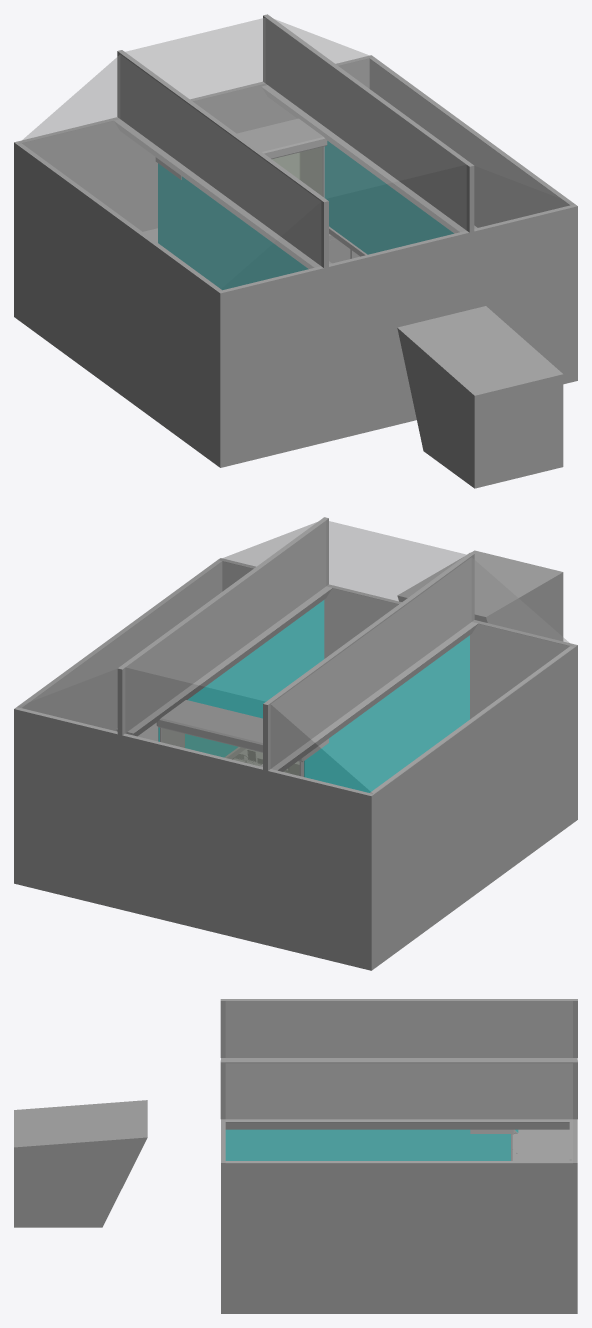
Rendered from lab.fbx.
3 renders of one model, top to bottom at view 1: azimuth 30°, elevation 25°; view 2: azimuth 150°, elevation 25°; view 3: azimuth 270°, elevation 25°, orthographic. The views are drawn at different scales.
Parts seen in each view (by area): view 1: glass_roof, pCube2, pCube3, pCube57, pCube64, pCube65, pCube4, glass1, pCube5, pasted__pCube46, pCube59, pCube62 (+3 smaller); view 2: glass_roof, pCube4, pCube3, pCube65, pCube64, glass1, pCube2, pCube5, pasted__pCube46, pCube57, pCube60, ground (+3 smaller); view 3: glass_roof, pCube5, pCube64, pCube65, pCube57, pasted__pCube46, pCube62, second_floor, ground, pCube59, pCube4, pCube2.
Part boxes in pixels (x1,y1,x2,y2): glass_roof: (18, 17, 573, 290); pCube2: (217, 204, 577, 462); pCube3: (16, 143, 221, 460); pCube57: (397, 306, 563, 488); pCube64: (263, 14, 474, 232); pCube65: (117, 50, 328, 268); pCube4: (14, 55, 373, 313); glass1: (158, 163, 308, 289); pCube5: (369, 57, 574, 227); pasted__pCube46: (324, 141, 453, 254); pCube59: (114, 119, 331, 268); pCube62: (261, 85, 477, 233); glass_roof: (18, 520, 573, 793); pCube4: (14, 707, 374, 965); pCube3: (370, 646, 575, 963); pCube65: (263, 552, 474, 770); pCube64: (117, 517, 328, 735); glass1: (304, 635, 469, 792); pCube2: (218, 558, 577, 816); pCube5: (17, 560, 222, 731); pasted__pCube46: (158, 600, 324, 757); pCube57: (397, 550, 563, 641); pCube60: (156, 700, 328, 761); ground: (14, 815, 577, 970); glass_roof: (226, 1000, 572, 1162); pCube5: (225, 1161, 572, 1309); pCube64: (220, 1060, 577, 1119); pCube65: (220, 999, 577, 1057); pCube57: (14, 1100, 147, 1227); pasted__pCube46: (225, 1129, 510, 1160); pCube62: (225, 1119, 569, 1129); second_floor: (512, 1119, 572, 1160); ground: (221, 1309, 577, 1313); pCube59: (225, 1058, 572, 1060); pCube4: (573, 1058, 577, 1309); pCube2: (221, 1058, 225, 1309).
Bounding box in the file's own units: 75.07 × 48.61 × 119.
